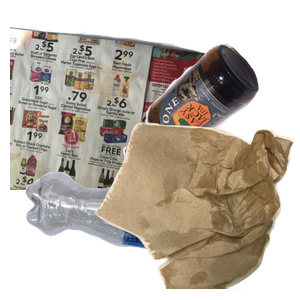glass: (120, 41, 300, 196)
paper: (10, 22, 225, 202)
plastic: (23, 169, 243, 300)
trash: (92, 120, 300, 300)
